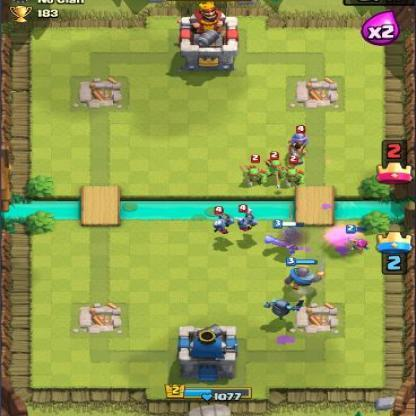ally_archer: (345, 223, 372, 256)
ally_knight: (282, 256, 326, 292)
ally_mini_pekka: (261, 296, 306, 322)
ally_musketeer: (262, 219, 308, 254)
enemy_minion: (233, 203, 260, 234), (209, 205, 236, 236)
enemy_musketeer: (286, 124, 310, 160)
enemy_spear_goblin: (239, 153, 269, 189), (280, 155, 308, 188), (266, 152, 288, 182)
